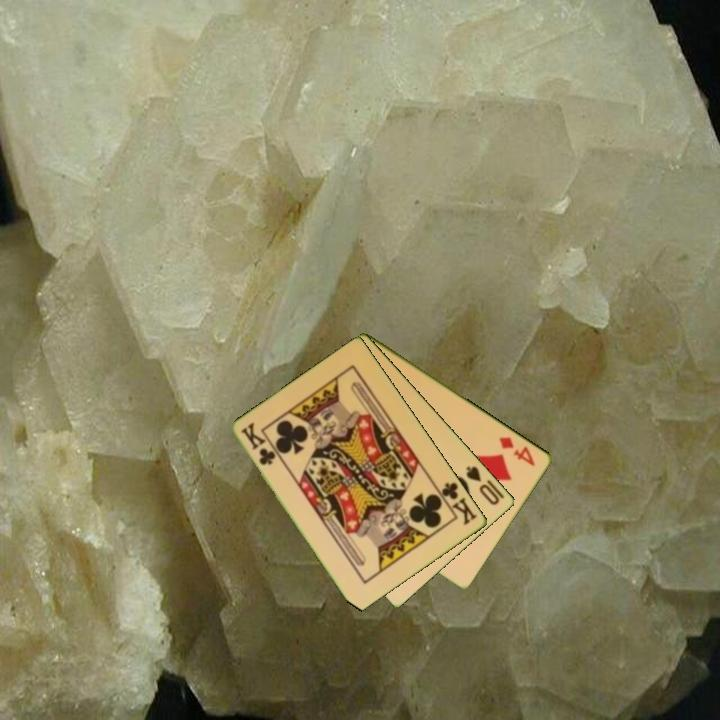10s: (463, 462, 503, 508)
4d: (496, 433, 539, 469)
Kc: (433, 478, 480, 528), (237, 420, 279, 468)
